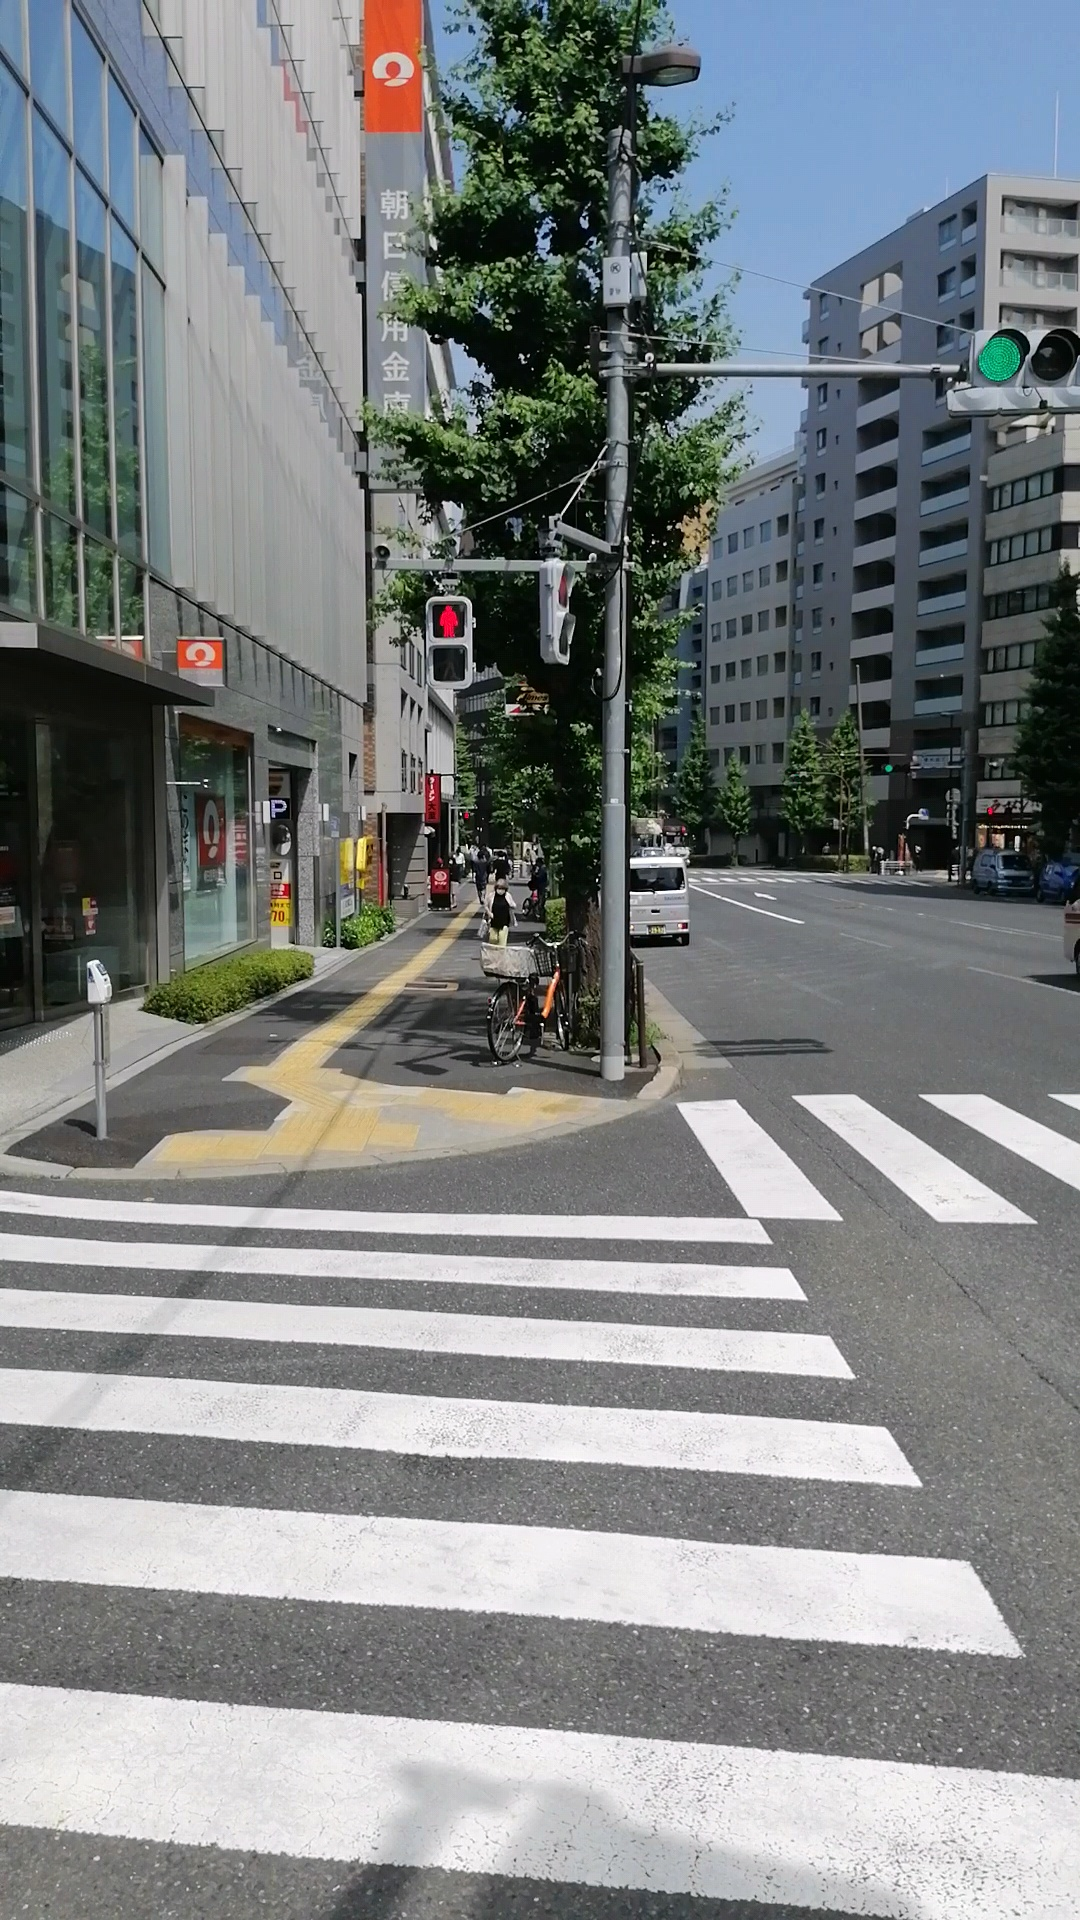red: (423, 593, 475, 690)
